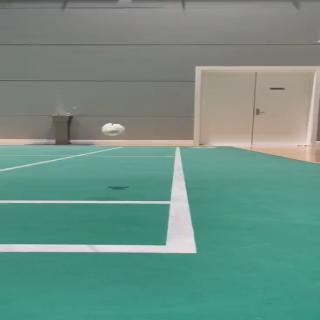Shuttle: (102, 123, 125, 136)
